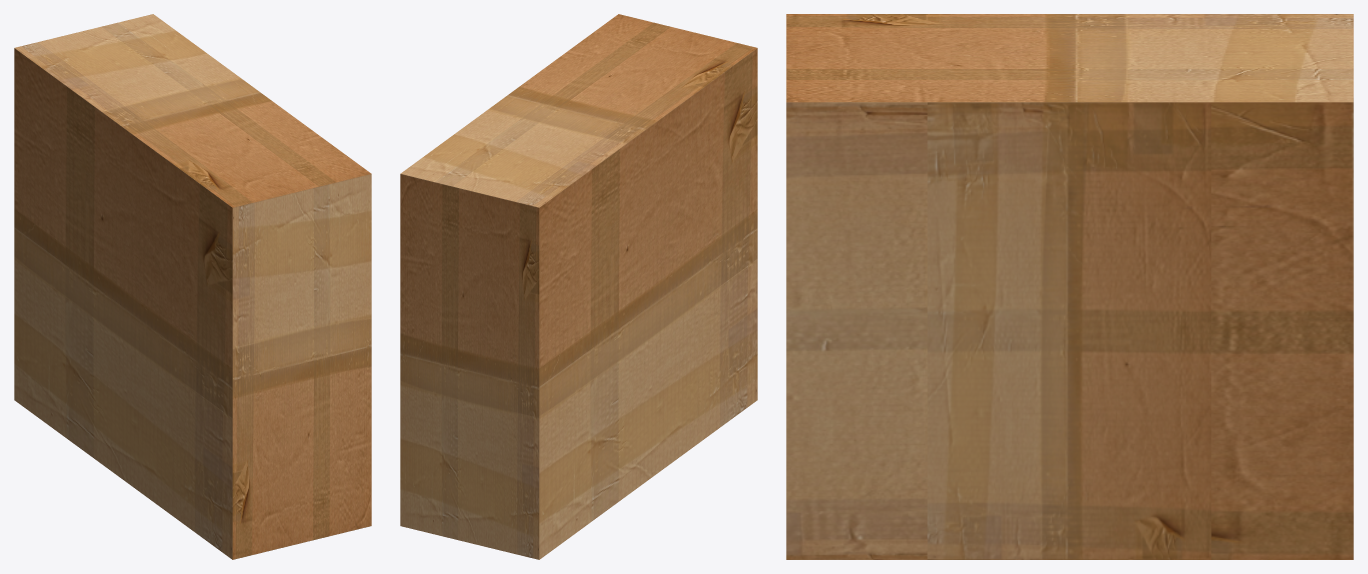
The model's file is DR_Air_Unit.fbx.
The picture shows the model from 3 angles, left to right: view 1: azimuth 30°, elevation 25°; view 2: azimuth 150°, elevation 25°; view 3: azimuth 270°, elevation 25°; orthographic projection. The views are drawn at different scales.
Parts seen in each view (by area): view 1: Cube.020; view 2: Cube.020; view 3: Cube.020.
Boxes of the visible parts, bbox=[...] form: Cube.020: bbox=[14, 14, 371, 559]; Cube.020: bbox=[400, 14, 757, 559]; Cube.020: bbox=[786, 14, 1353, 559].
Bounding box in the file's own units: 325 × 787 × 884.
